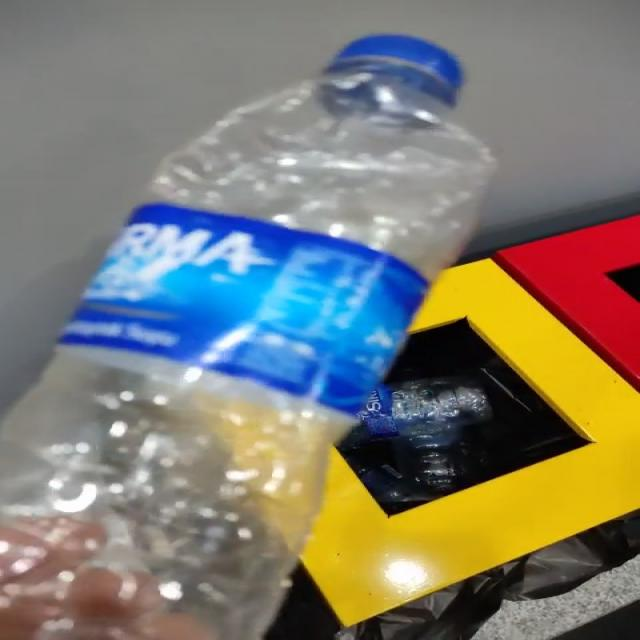plastic: (3, 36, 496, 640)
